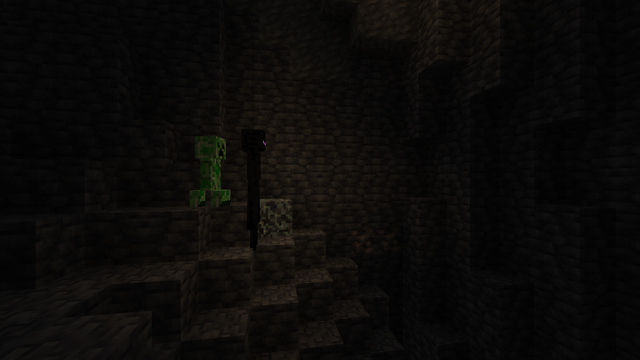creepers: (193, 132, 225, 207)
endermens: (239, 124, 266, 248)
